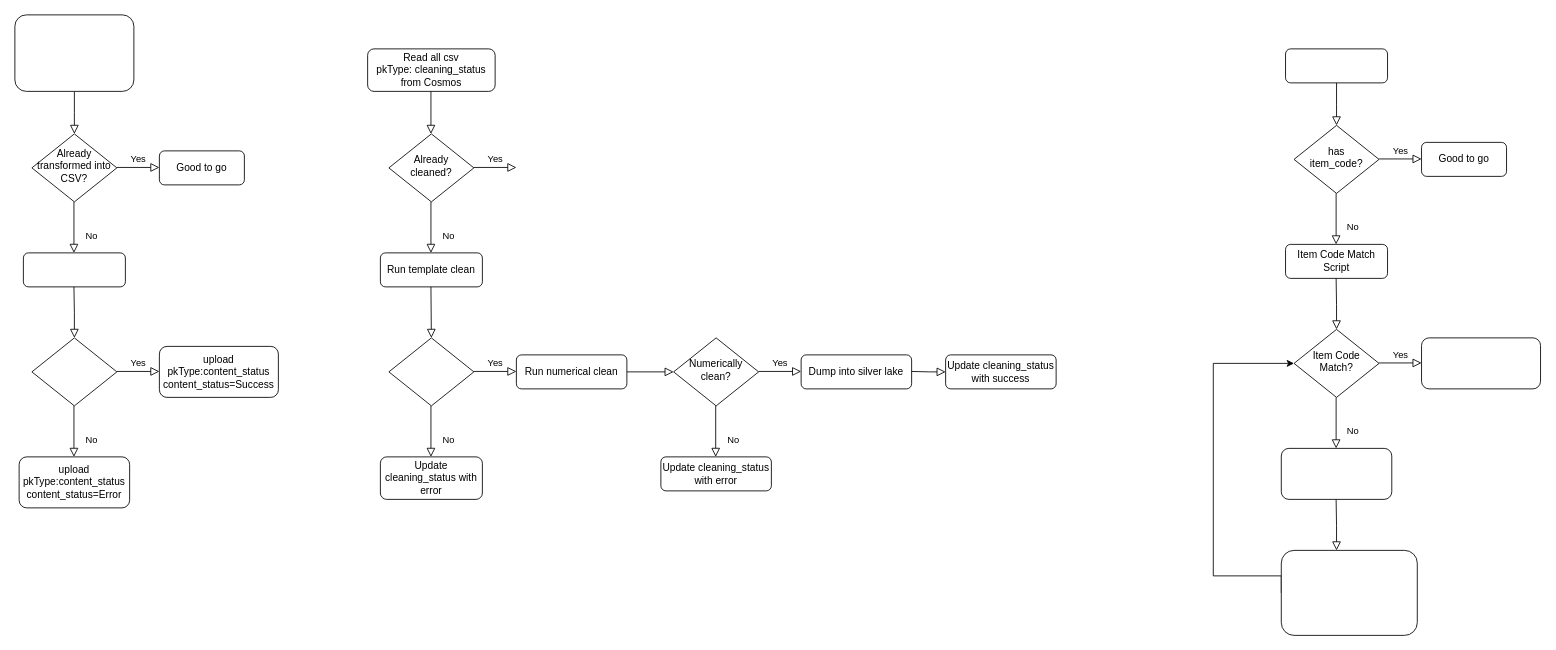
Some shapes in this 1556 by 650 pixel diagram are drawn without their labels. The box of each missing label's shape, as (x1, y1, x2, y2) in pixels:
backfill data via Item Code: (1421, 337, 1541, 389)
Existing template?: (388, 337, 474, 406)
fuzzy match item_codes: (1280, 448, 1392, 499)
Read all cleaning_status from CosmosDB: (1285, 48, 1388, 83)
Read all project:content - project_phase needs to be complete - from CosmosDB: (14, 14, 134, 91)
Successful upload?: (31, 337, 117, 406)
upload to cosmosDB via pkType: item_code_match item_code_match = False: (1280, 550, 1417, 635)
XLSX to CSV Script: (23, 252, 125, 287)
